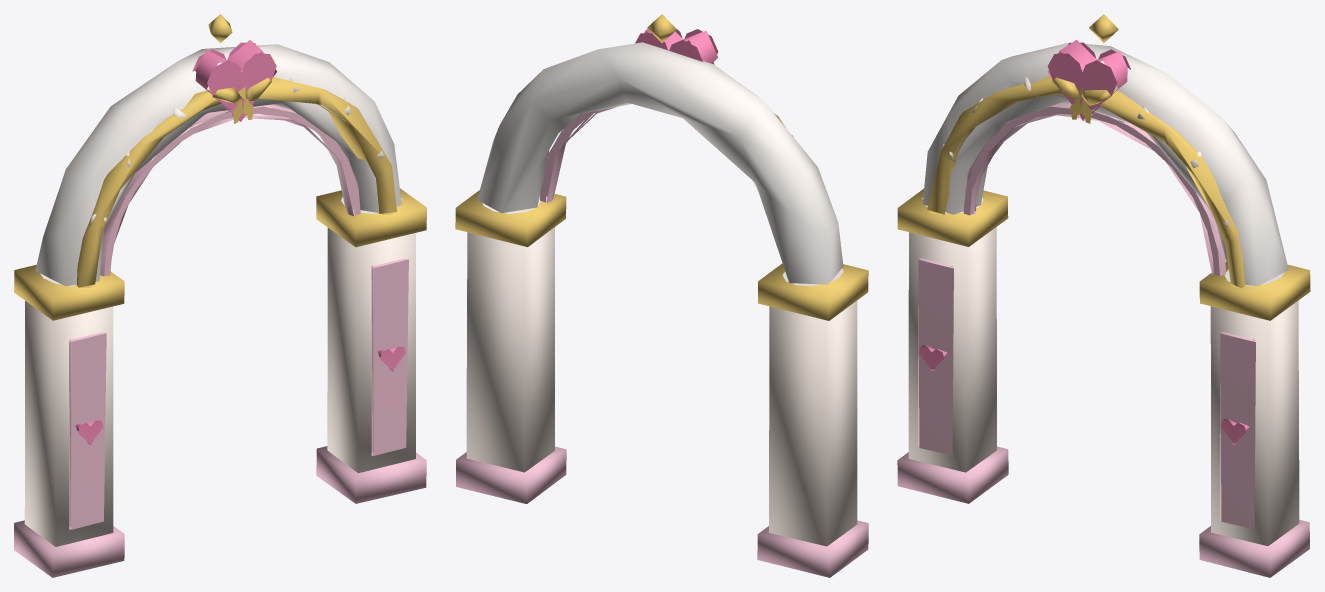
File: lod_arch_gate.glb
3 views of the same model, side by side, from view 1: azimuth 30°, elevation 25°; view 2: azimuth 150°, elevation 25°; view 3: azimuth 330°, elevation 25° (orthographic).
Parts seen in each view (by area): view 1: arch_gate; view 2: arch_gate; view 3: arch_gate.
Part boxes in pixels (x1,y1,x2,y2): arch_gate: (14, 14, 426, 577); arch_gate: (455, 14, 868, 577); arch_gate: (897, 14, 1310, 577).
Size of the model in its own units: 4.34 by 5.58 by 0.9112.
